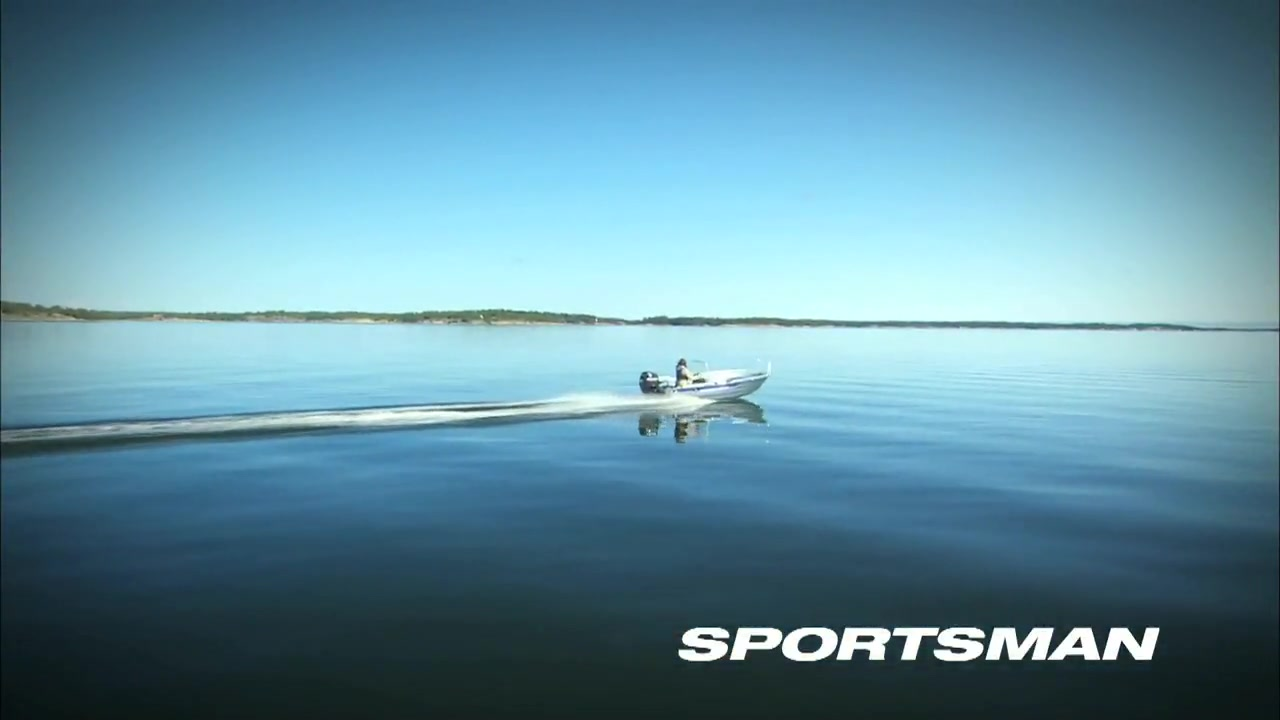boat: (639, 358, 773, 405)
